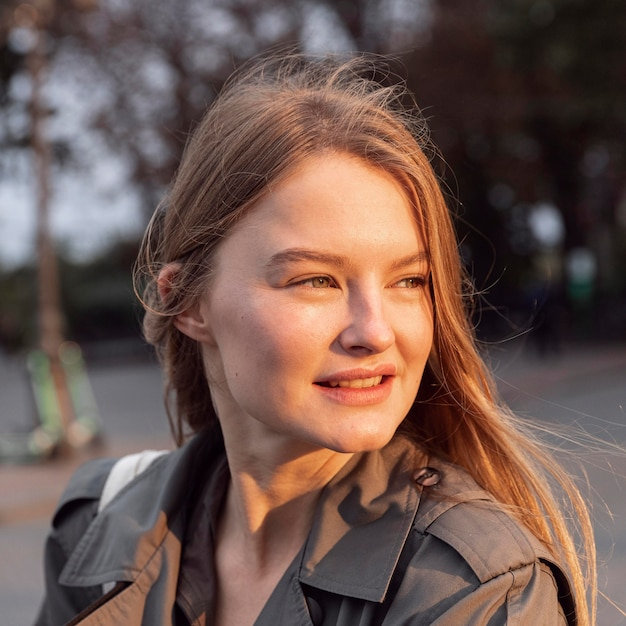teen: (168, 67, 464, 458)
